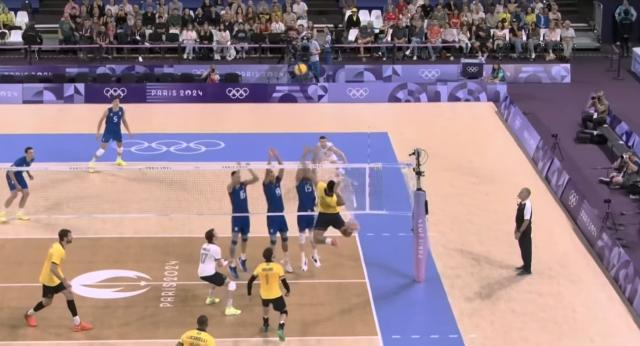Levantador: (250, 250, 286, 338), (0, 147, 34, 221)
Libero: (198, 230, 240, 316), (314, 135, 342, 175)
bola: (294, 63, 306, 77)
